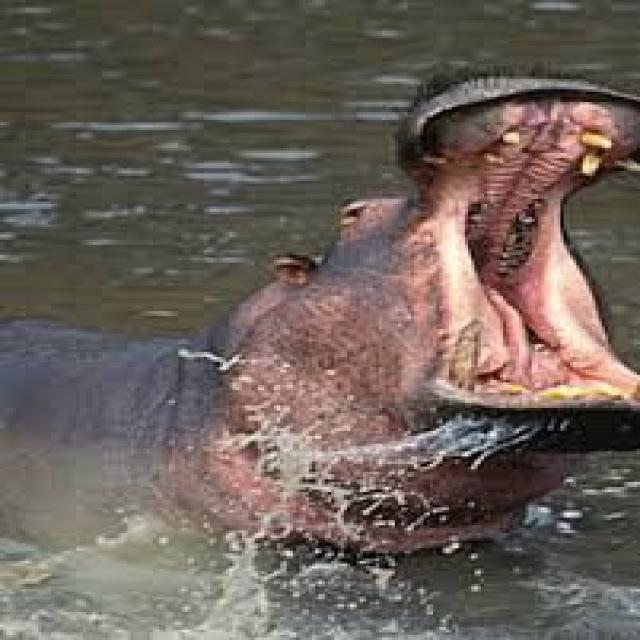hippopotamus: (0, 76, 637, 553)
